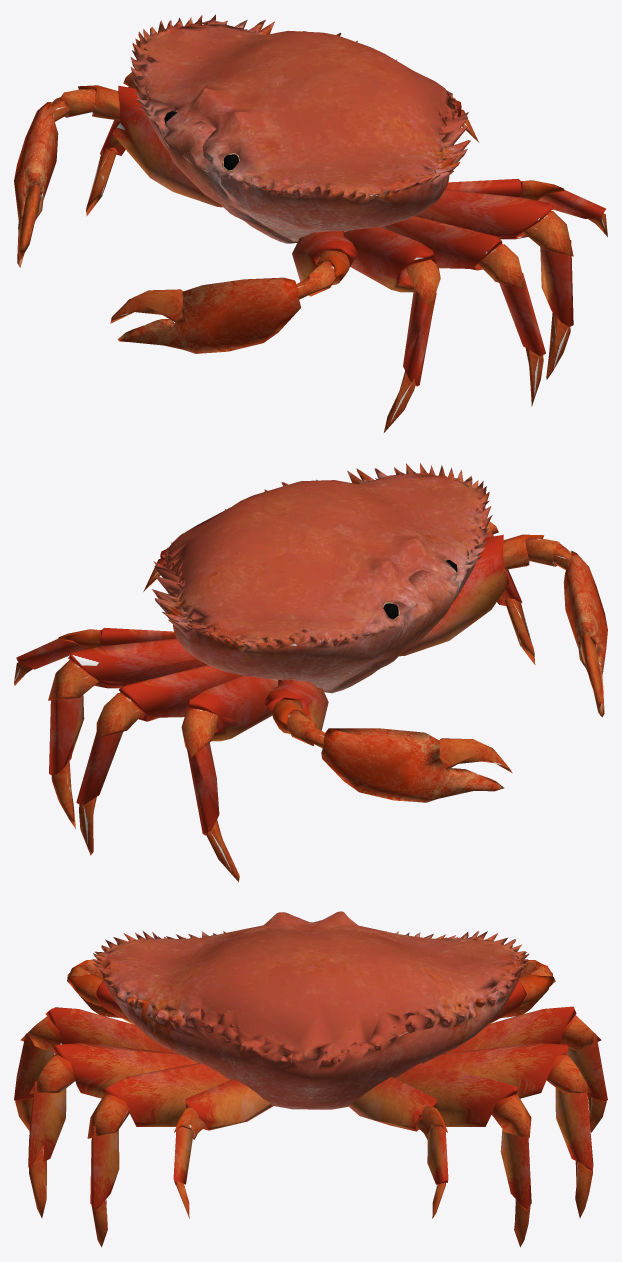
File: crab.glb
The picture shows the model from 3 angles, top to bottom: view 1: azimuth 30°, elevation 25°; view 2: azimuth 150°, elevation 25°; view 3: azimuth 270°, elevation 25°; orthographic projection. The views are drawn at different scales.
Visible parts, largest first — view 1: Object_11, Object_13, Object_8, Object_12, Object_9, Object_6, Object_7; view 2: Object_11, Object_13, Object_8, Object_12, Object_9, Object_6, Object_7; view 3: Object_13, Object_11, Object_12, Object_6, Object_9, Object_7, Object_8.
Part boxes in pixels (x1=…): Object_11: x1=130, y1=14, x2=470, y2=197; Object_13: x1=100, y1=85, x2=605, y2=386; Object_8: x1=14, y1=102, x2=300, y2=353; Object_12: x1=135, y1=20, x2=464, y2=243; Object_9: x1=19, y1=97, x2=607, y2=432; Object_6: x1=59, y1=72, x2=573, y2=308; Object_7: x1=78, y1=85, x2=563, y2=285; Object_11: x1=152, y1=463, x2=492, y2=645; Object_13: x1=16, y1=530, x2=522, y2=835; Object_8: x1=321, y1=550, x2=607, y2=802; Object_12: x1=156, y1=468, x2=487, y2=693; Object_9: x1=14, y1=547, x2=602, y2=882; Object_6: x1=48, y1=521, x2=565, y2=757; Object_7: x1=58, y1=534, x2=543, y2=733; Object_13: x1=14, y1=979, x2=607, y2=1209; Object_11: x1=92, y1=911, x2=527, y2=1060; Object_12: x1=94, y1=945, x2=528, y2=1109; Object_6: x1=20, y1=966, x2=601, y2=1138; Object_9: x1=15, y1=970, x2=606, y2=1247; Object_7: x1=67, y1=974, x2=554, y2=1139; Object_8: x1=70, y1=959, x2=550, y2=1018.
Size of the model in its own units: 3.22 by 1.71 by 3.66.
Materials: 7 (6 with a texture image).
